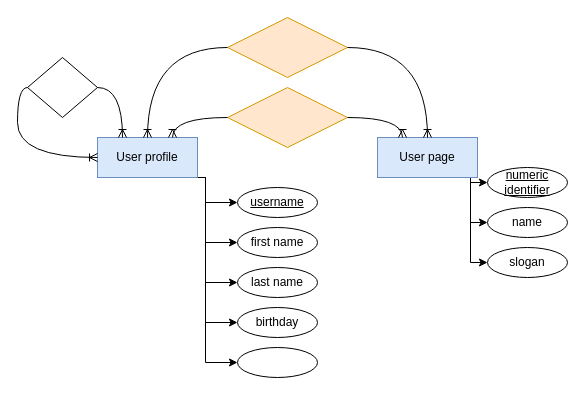
The diagram is 585 pixels wide and 403 high, and some of its shapes have lost their labels. The centre of each missing label's shape, as x and y in pixels:
"email address" belongs at [277,362].
"has friends" belongs at [62,87].
"likes" belongs at [287,117].
"manages" belongs at [287,47].
